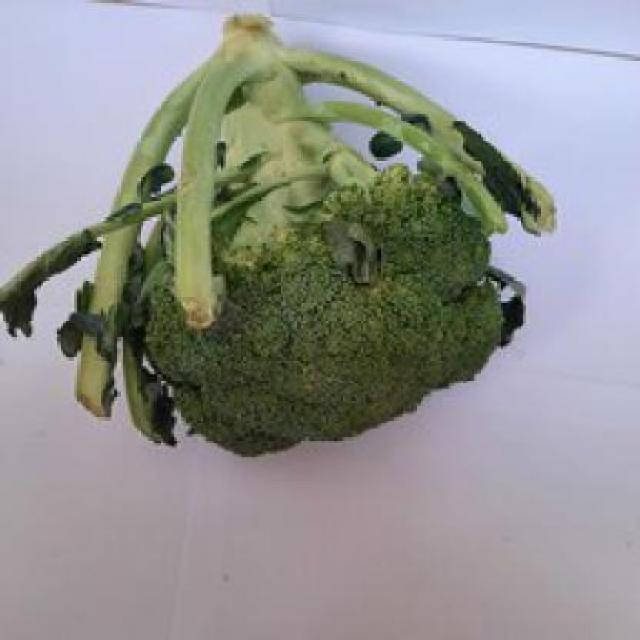broccoli: (99, 11, 512, 432)
